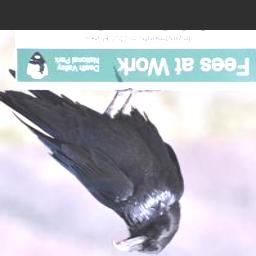Crow: (0, 67, 185, 256)
